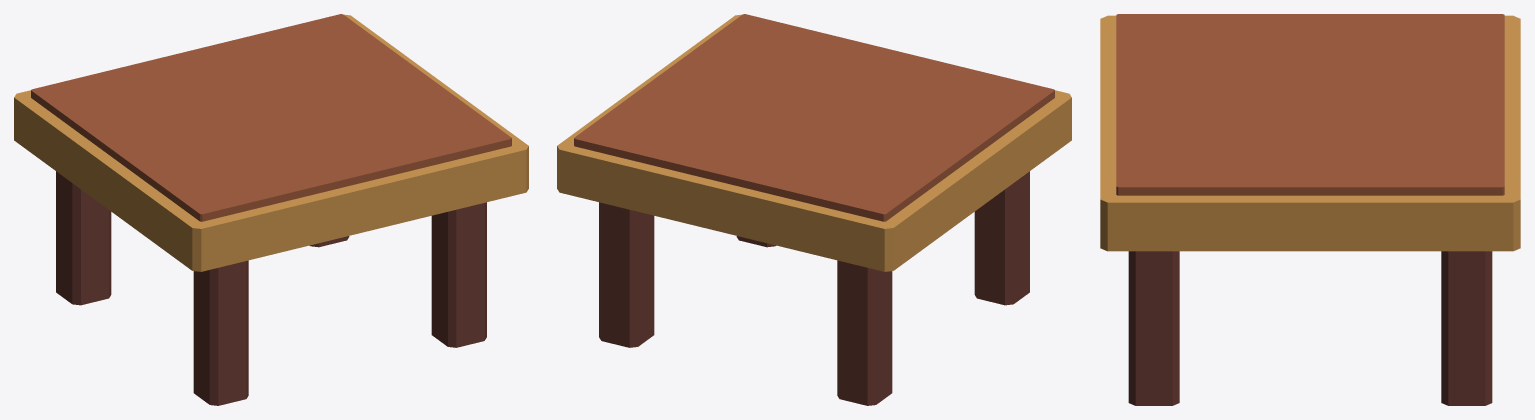
The model's file is Stool.fbx.
3 views of the same model, side by side, from view 1: azimuth 30°, elevation 25°; view 2: azimuth 150°, elevation 25°; view 3: azimuth 270°, elevation 25° (orthographic). The views are drawn at different scales.
Visible parts, largest first — view 1: Stool.005; view 2: Stool.005; view 3: Stool.005.
Part boxes in pixels (left/top/right/bottom): Stool.005: left=14, top=14, right=528, bottom=405; Stool.005: left=557, top=14, right=1071, bottom=405; Stool.005: left=1100, top=14, right=1520, bottom=405.
Bounding box in the file's own units: 82 × 46.75 × 78.
